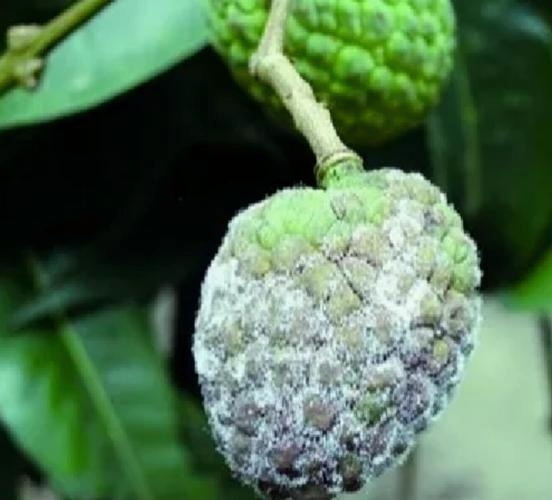Frost_Blight: (210, 177, 449, 492)
